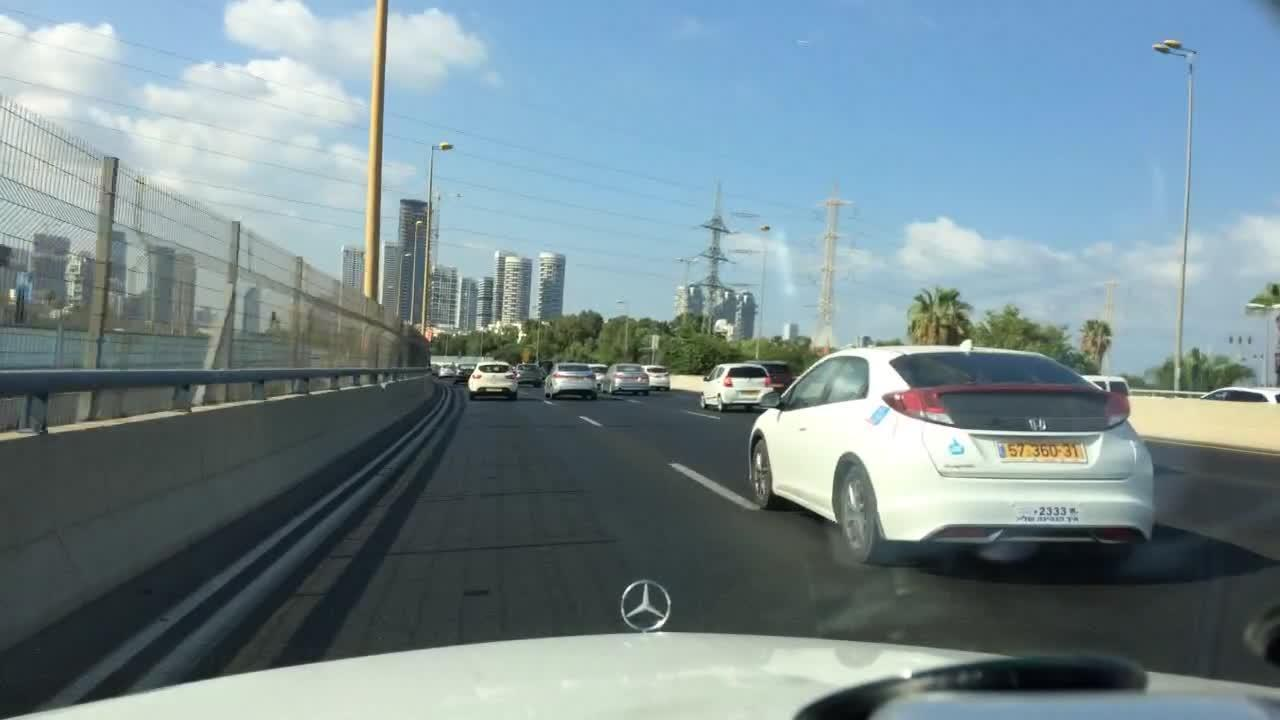Honda: (1023, 412, 1057, 437)
Mercedes: (607, 558, 702, 641)
